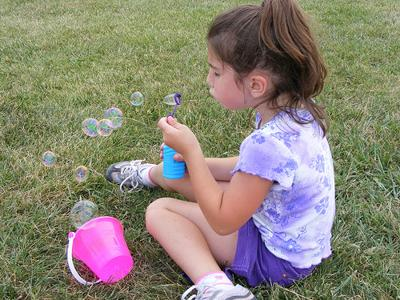person: (108, 3, 341, 300)
